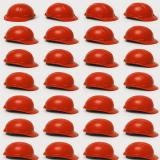Helmet: (2, 72, 40, 91), (121, 141, 159, 160), (83, 48, 119, 68), (82, 72, 119, 91), (82, 118, 119, 137), (82, 95, 119, 114), (122, 95, 159, 114), (122, 118, 159, 137), (2, 118, 39, 137), (42, 141, 79, 160), (82, 141, 119, 160), (84, 2, 119, 22), (123, 2, 158, 22), (84, 25, 119, 45), (123, 25, 158, 45), (43, 49, 79, 68), (123, 49, 159, 68), (43, 72, 79, 91), (122, 72, 158, 91), (3, 95, 39, 114), (42, 95, 78, 114), (43, 118, 79, 137), (3, 141, 39, 160), (44, 2, 78, 22), (4, 25, 38, 45), (4, 49, 39, 68), (43, 26, 79, 44), (4, 3, 36, 22)
